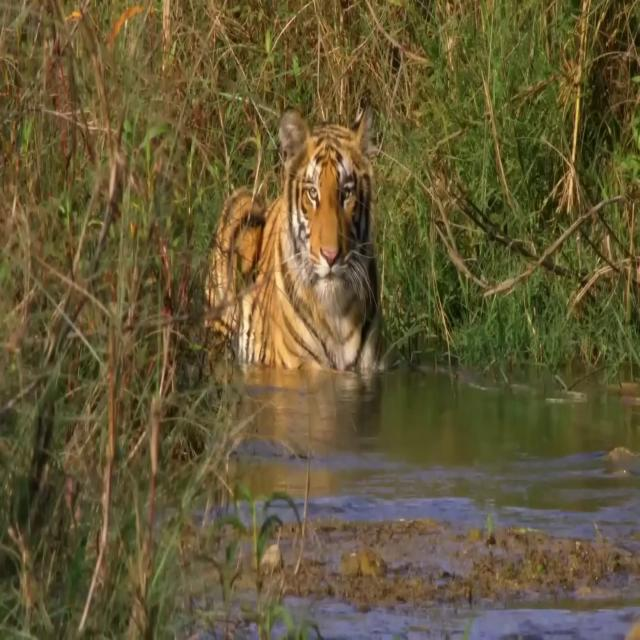tiger: (203, 96, 396, 373)
